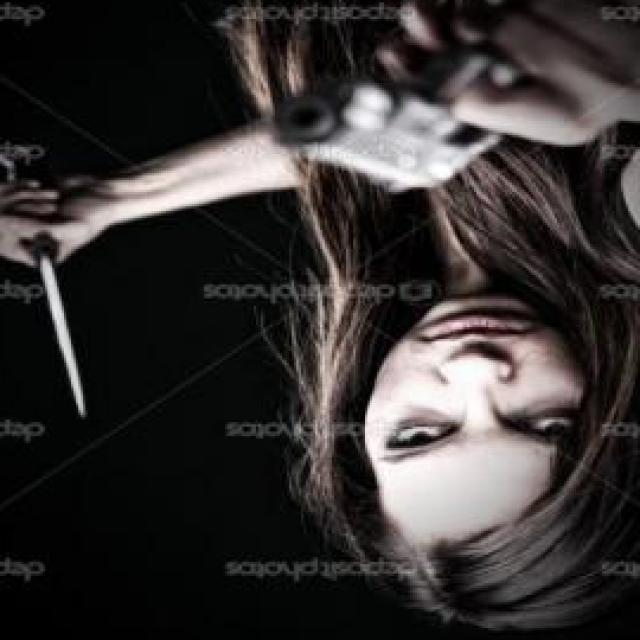pistol: (261, 0, 584, 195)
